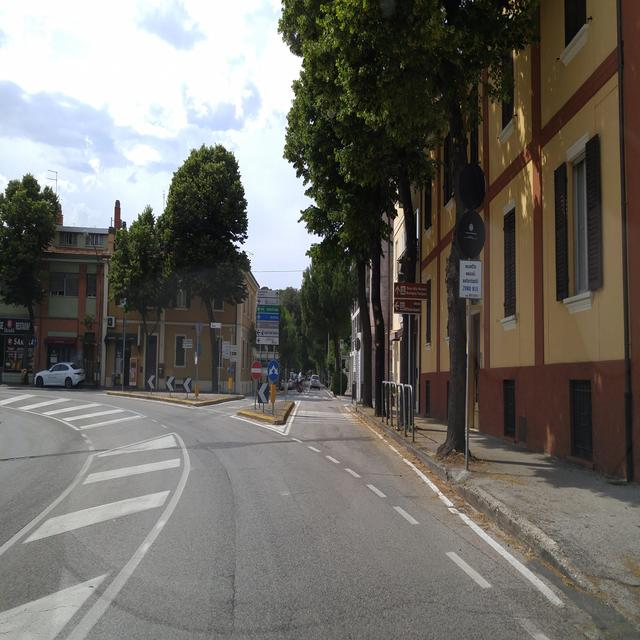Bicycle: (294, 379, 309, 395)
Billboard: (129, 326, 142, 386), (0, 318, 29, 334)
Car: (34, 362, 84, 388), (287, 375, 320, 390)
Vegetation: (0, 172, 94, 384), (383, 314, 414, 431)
